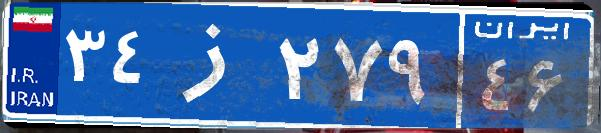2: (273, 28, 330, 110)
3: (57, 26, 110, 107)
4: (475, 38, 525, 113), (110, 28, 158, 105)
6: (525, 38, 570, 115)
7: (330, 28, 385, 110)
9: (385, 28, 445, 110)
ز: (158, 15, 273, 115)
